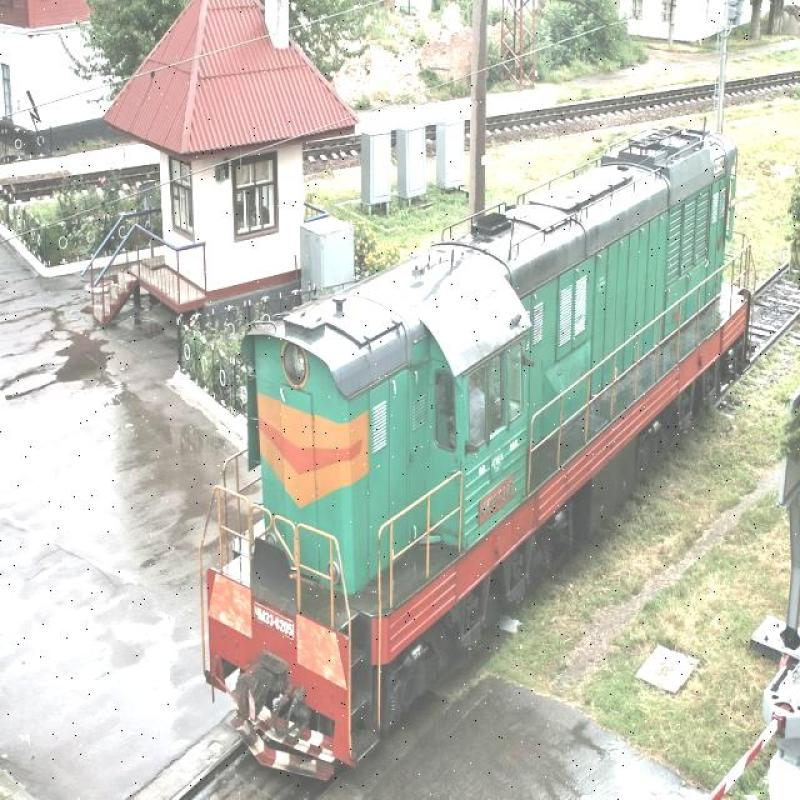train: (251, 151, 752, 747)
